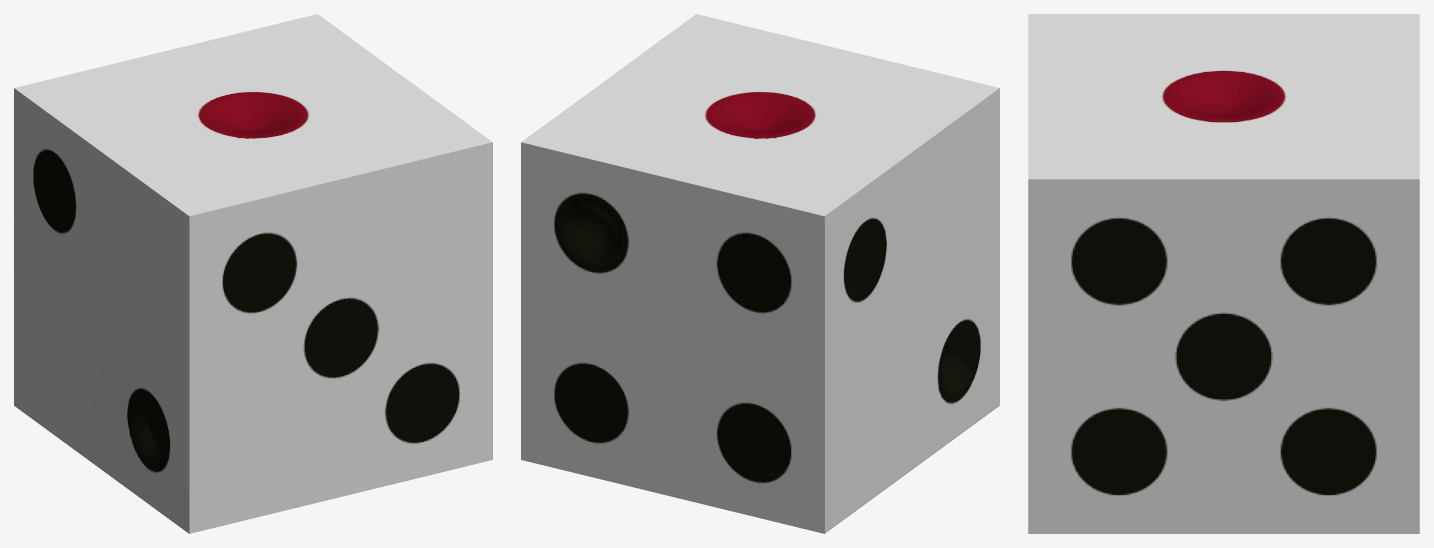
File: DiceSculpted.fbx
3 renders of one model, left to right at view 1: azimuth 30°, elevation 25°; view 2: azimuth 150°, elevation 25°; view 3: azimuth 270°, elevation 25°, orthographic. The views are drawn at different scales.
Visible parts, largest first — view 1: Cube; view 2: Cube; view 3: Cube.
Part boxes in pixels (left/top/right/bottom): Cube: left=14, top=14, right=492, bottom=533; Cube: left=521, top=14, right=999, bottom=533; Cube: left=1028, top=14, right=1419, bottom=533.
Bounding box in the file's own units: 200 × 200 × 200.
